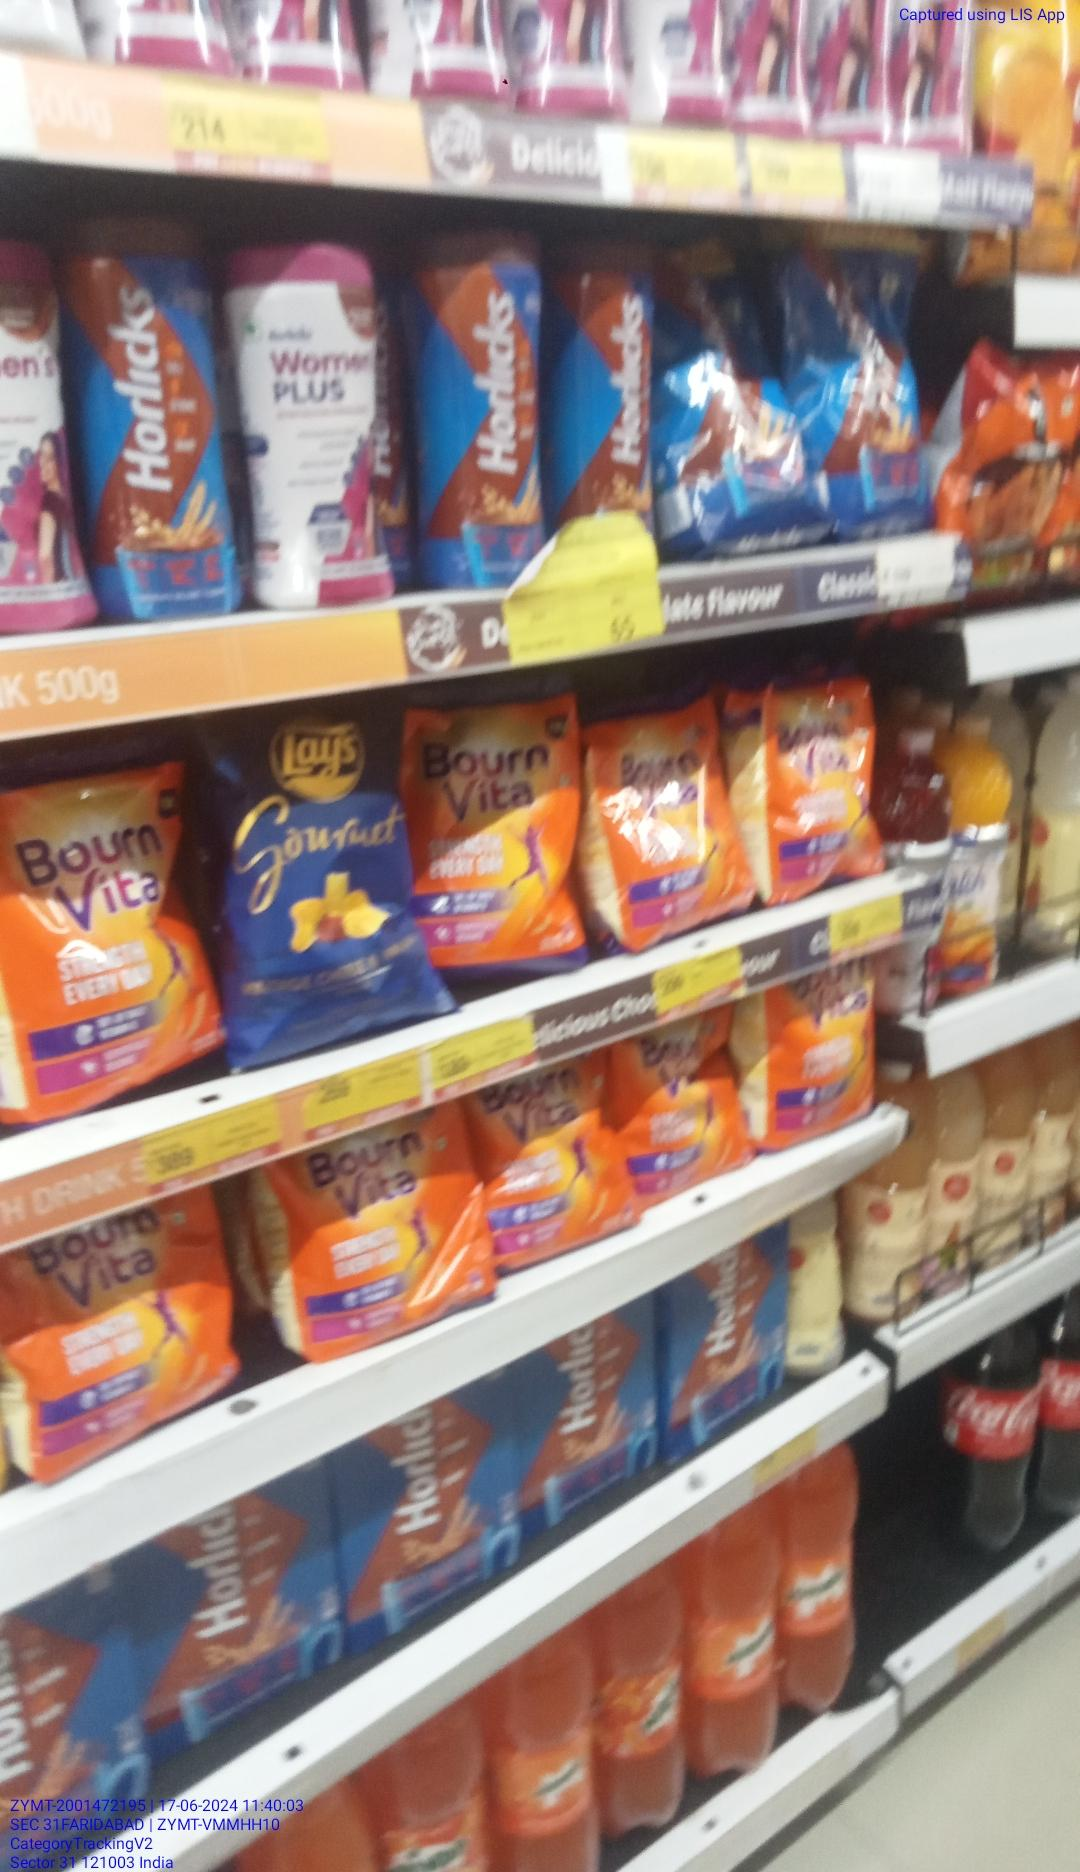BOURN_VITA_500_G_POUCH: (604, 703, 735, 940), (768, 672, 873, 901)
BOURN_VITA_750_G_POUCH: (8, 759, 208, 1108), (411, 694, 582, 984)
HORLICK_CHOCOLATE_500_G_JAR: (78, 213, 228, 625), (431, 219, 548, 593), (553, 234, 656, 523)
HORLICK_CHOCOLATE_750_G_POUCH: (661, 237, 801, 555), (813, 225, 930, 523)
